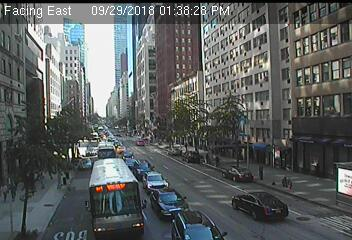car: (85, 158, 146, 239), (231, 192, 288, 221), (170, 211, 226, 240), (149, 188, 189, 219), (142, 172, 168, 191), (223, 166, 252, 183), (133, 160, 153, 180), (96, 144, 115, 163), (182, 151, 201, 164), (79, 158, 91, 170), (125, 157, 137, 169), (120, 150, 133, 160), (85, 146, 96, 157), (167, 148, 179, 155), (117, 146, 125, 154), (136, 140, 145, 146)
